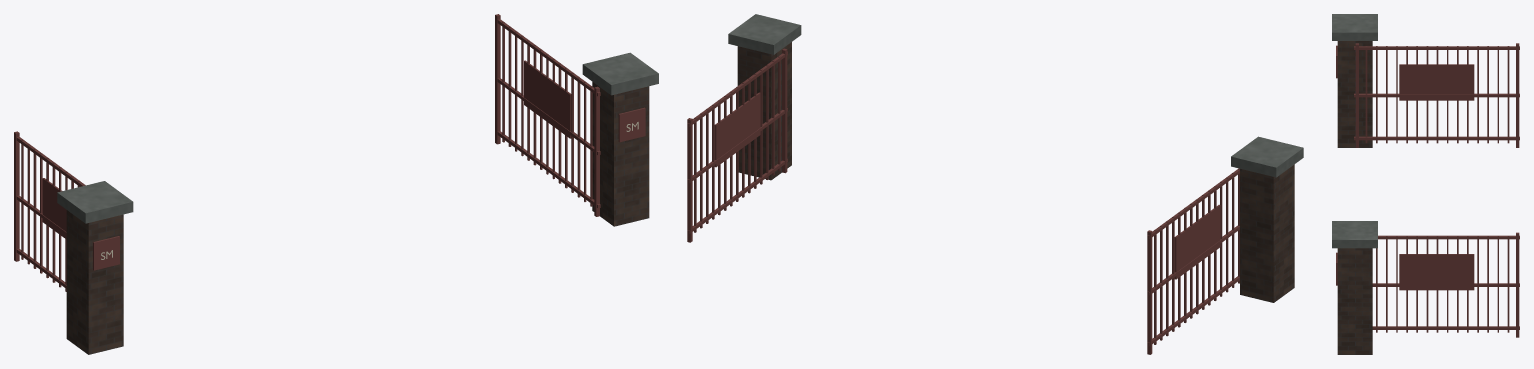
File: school-entrance-gates.glb
3 views of the same model, side by side, from view 1: azimuth 30°, elevation 25°; view 2: azimuth 150°, elevation 25°; view 3: azimuth 270°, elevation 25° (orthographic). The views are drawn at different scales.
Parts seen in each view (by area): view 1: School brick gate pier, School brick gate pier.001, Stone pier coping.001, Stone pier coping, Gate centre mesh panel.001, Gate centre mesh panel, School pier enamel plaque.001, School pier enamel plaque, Gate end standard.002, Gate end standard.003, Gate end standard.001, Gate horizontal rail.005 (+2 smaller); view 2: School brick gate pier, School brick gate pier.001, Stone pier coping.001, Stone pier coping, Gate centre mesh panel.001, Gate centre mesh panel, Gate end standard.001, Gate end standard.003, Gate end standard.002, Gate horizontal rail.005, Gate horizontal rail.003, Gate horizontal rail.002 (+2 smaller); view 3: School brick gate pier.001, School brick gate pier, Gate centre mesh panel.001, Gate centre mesh panel, Stone pier coping.001, Stone pier coping, Gate horizontal rail, Gate horizontal rail.001, Gate horizontal rail.005, Gate horizontal rail.002, Gate horizontal rail.003, Gate horizontal rail.004 (+22 smaller).
Boxes of the visible parts, x1=… form: School brick gate pier: x1=66, y1=210, x2=123, y2=354; School brick gate pier.001: x1=592, y1=82, x2=649, y2=226; Stone pier coping.001: x1=582, y1=52, x2=658, y2=95; Stone pier coping: x1=57, y1=181, x2=133, y2=223; Gate centre mesh panel.001: x1=524, y1=60, x2=571, y2=138; Gate centre mesh panel: x1=42, y1=178, x2=66, y2=239; School pier enamel plaque.001: x1=618, y1=107, x2=645, y2=142; School pier enamel plaque: x1=93, y1=236, x2=119, y2=270; Gate end standard.002: x1=594, y1=86, x2=599, y2=216; Gate end standard.003: x1=495, y1=14, x2=500, y2=144; Gate end standard.001: x1=14, y1=131, x2=19, y2=261; Gate horizontal rail.005: x1=497, y1=19, x2=600, y2=96; School brick gate pier: x1=1240, y1=164, x2=1294, y2=302; School brick gate pier.001: x1=737, y1=42, x2=791, y2=180; Stone pier coping.001: x1=728, y1=14, x2=801, y2=54; Stone pier coping: x1=1231, y1=136, x2=1303, y2=177; Gate centre mesh panel.001: x1=714, y1=92, x2=760, y2=167; Gate centre mesh panel: x1=1174, y1=204, x2=1220, y2=279; Gate end standard.001: x1=1147, y1=230, x2=1152, y2=354; Gate end standard.003: x1=687, y1=118, x2=692, y2=242; Gate end standard.002: x1=782, y1=48, x2=787, y2=173; Gate horizontal rail.005: x1=687, y1=51, x2=787, y2=126; Gate horizontal rail.003: x1=687, y1=159, x2=787, y2=233; Gate horizontal rail.002: x1=1147, y1=169, x2=1239, y2=238; School brick gate pier.001: x1=1337, y1=248, x2=1372, y2=354; School brick gate pier: x1=1337, y1=41, x2=1372, y2=147; Gate centre mesh panel.001: x1=1399, y1=254, x2=1474, y2=290; Gate centre mesh panel: x1=1399, y1=64, x2=1474, y2=100; Stone pier coping.001: x1=1332, y1=221, x2=1377, y2=248; Stone pier coping: x1=1332, y1=14, x2=1377, y2=40; Gate horizontal rail: x1=1354, y1=136, x2=1519, y2=140; Gate horizontal rail.001: x1=1354, y1=93, x2=1519, y2=97; Gate horizontal rail.005: x1=1378, y1=235, x2=1519, y2=239; Gate horizontal rail.002: x1=1354, y1=46, x2=1519, y2=49; Gate horizontal rail.003: x1=1372, y1=326, x2=1519, y2=329; Gate horizontal rail.004: x1=1372, y1=283, x2=1519, y2=286.
Bounding box in the file's own units: 9.27 × 2.25 × 3.26.
Materials: 4 (2 with a texture image).
